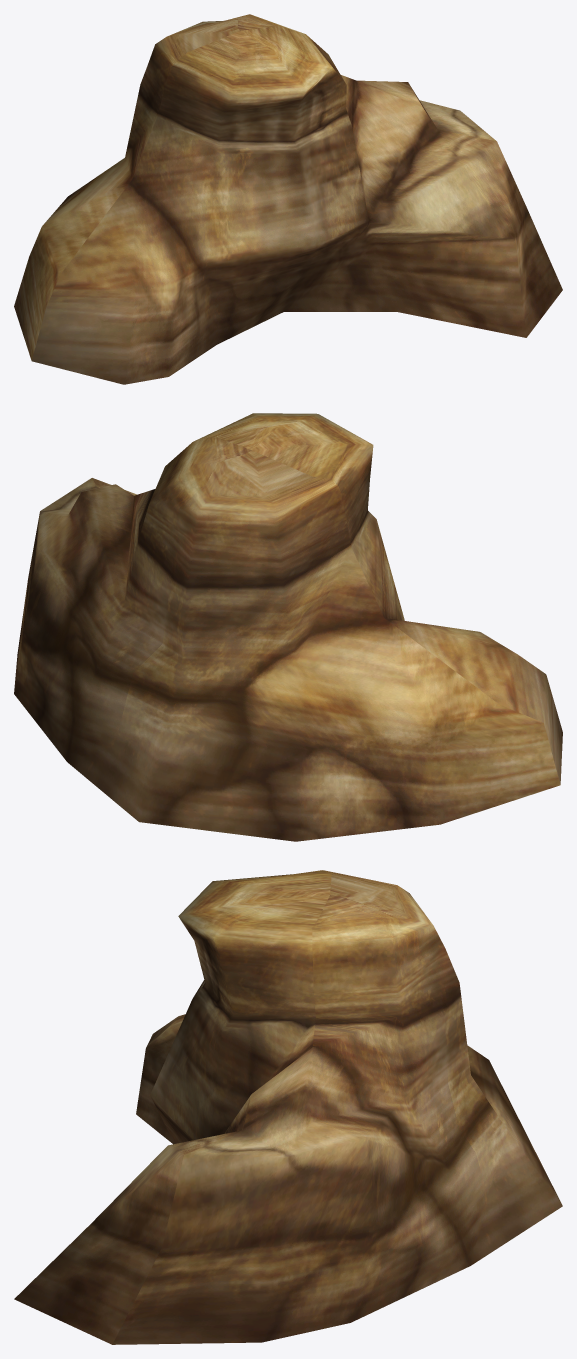
File: obj_masaprro09.glb
3 renders of one model, top to bottom at view 1: azimuth 30°, elevation 25°; view 2: azimuth 150°, elevation 25°; view 3: azimuth 270°, elevation 25°, orthographic. The views are drawn at different scales.
Parts seen in each view (by area): view 1: part_0; view 2: part_0; view 3: part_0.
Part boxes in pixels (left/top/right/bottom): part_0: left=14, top=14, right=562, bottom=384; part_0: left=14, top=413, right=562, bottom=841; part_0: left=14, top=870, right=562, bottom=1344.
Bounding box in the file's own units: 11.8 × 6.02 × 9.67.
Materials: 1 (1 with a texture image).
